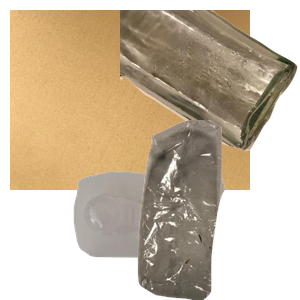cardboard: (10, 10, 250, 190)
glass: (120, 10, 300, 153)
plastic: (71, 169, 275, 300)
trash: (114, 120, 300, 300)
